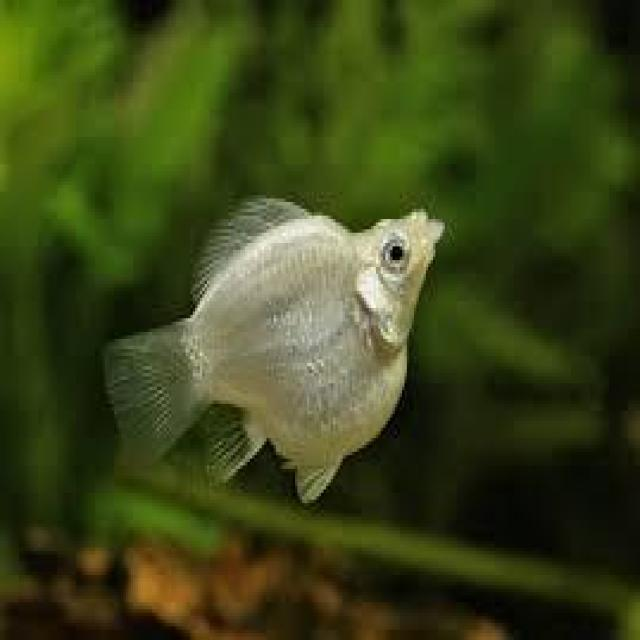PlatyFish: (89, 182, 463, 520)
